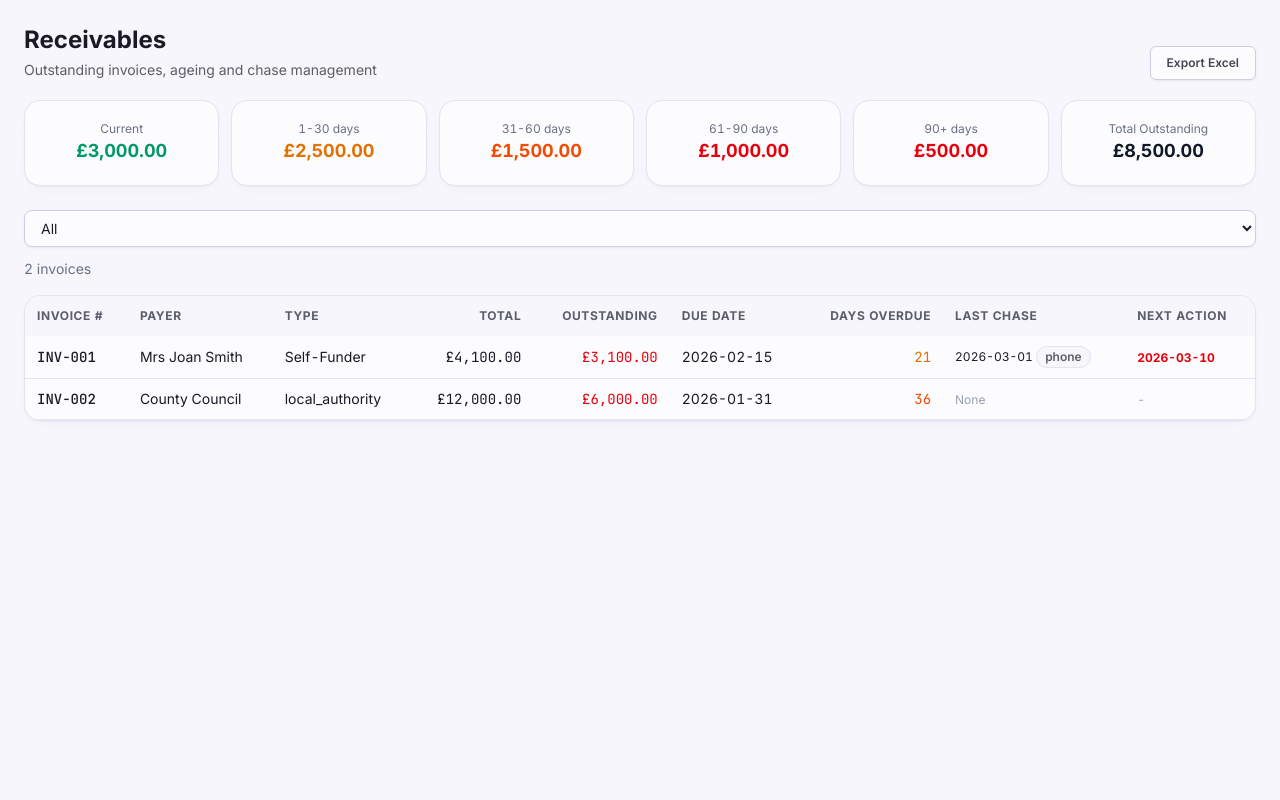
Test case: ReceivablesManager › viewer cannot see Record Chase button in modal
Click the text "INV-001": x=76, y=357 [25,336,128,378]
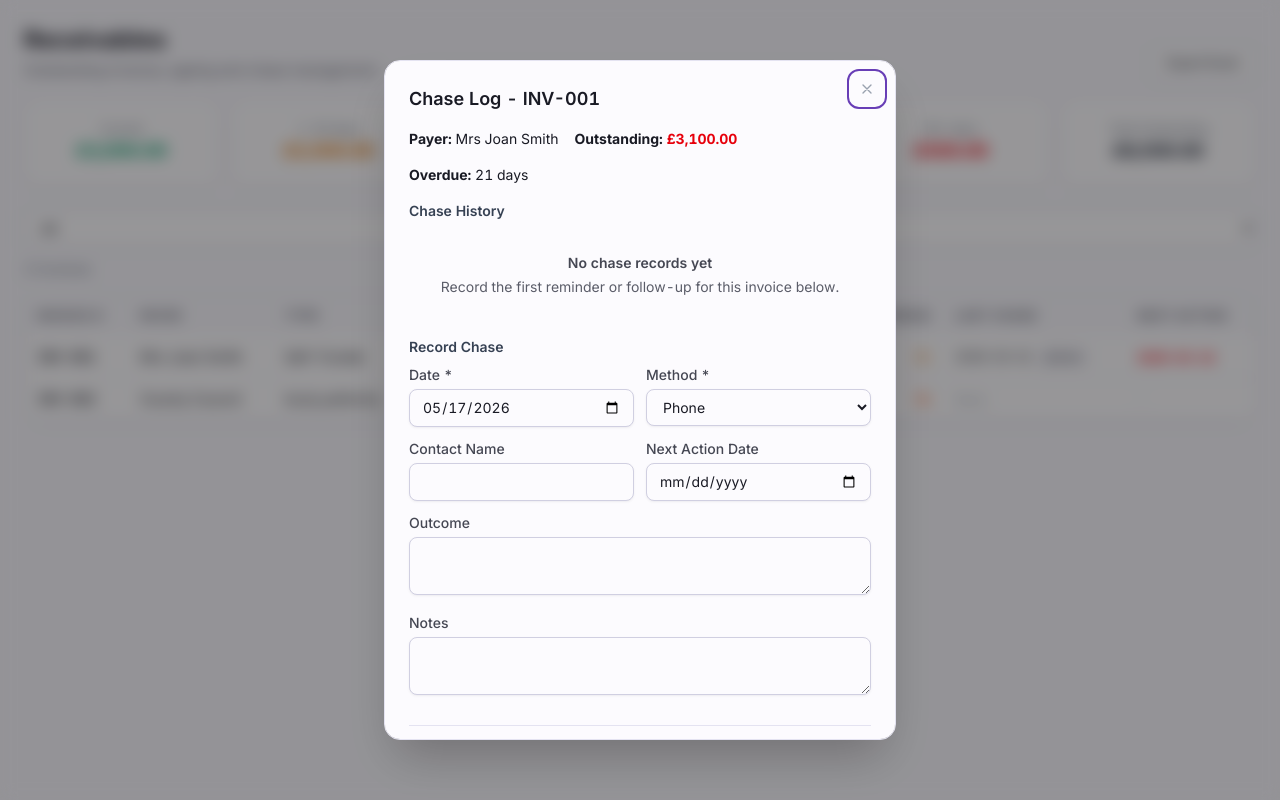
expect the heading "Chase History" is shown: met, box [409,202,505,219]
